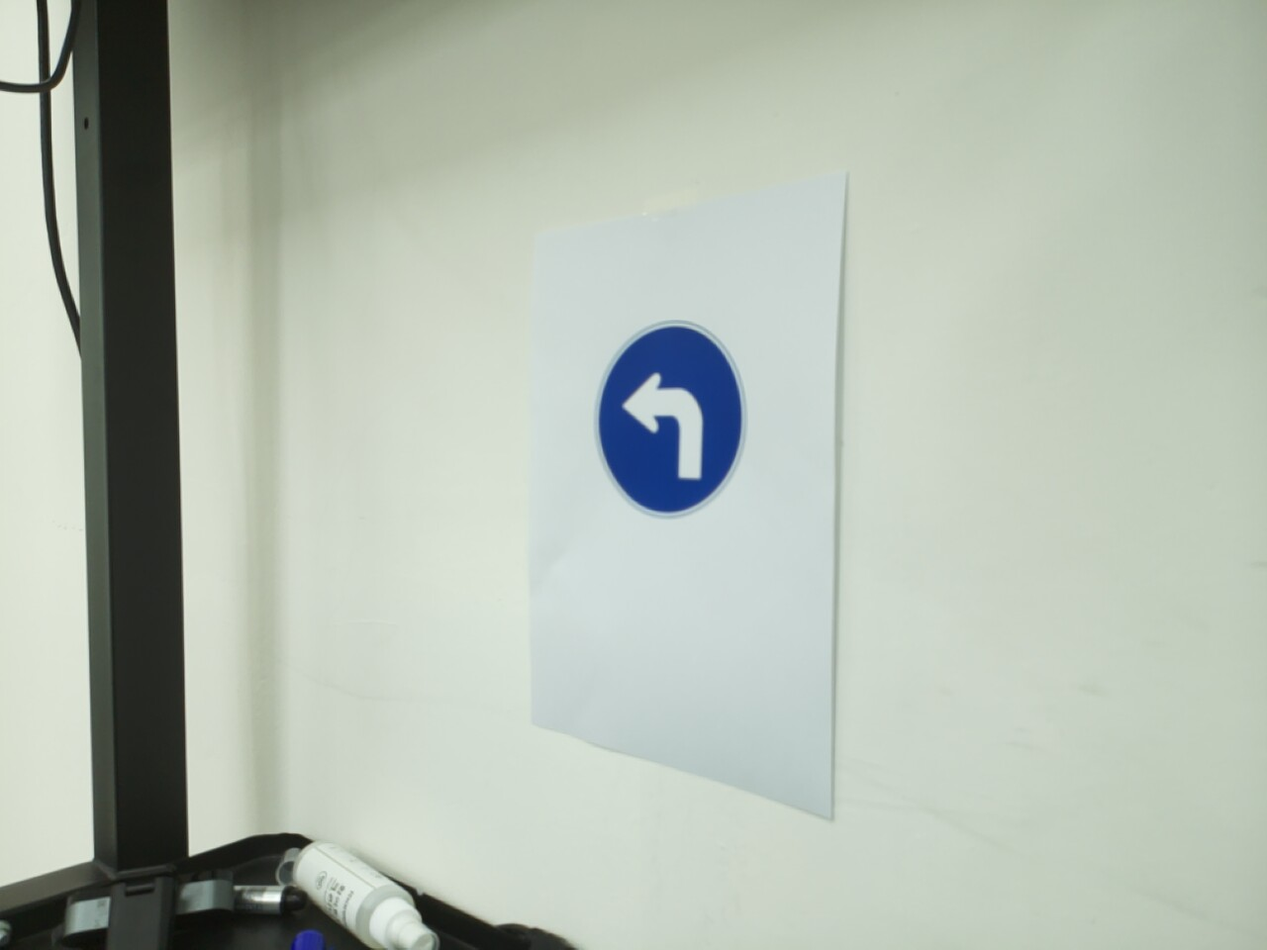left_turn: (592, 319, 748, 520)
